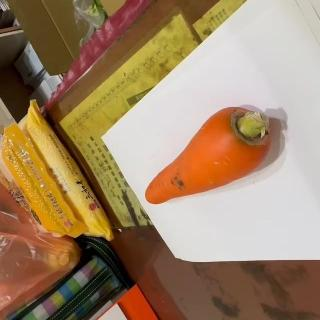carrot: (144, 105, 272, 204)
